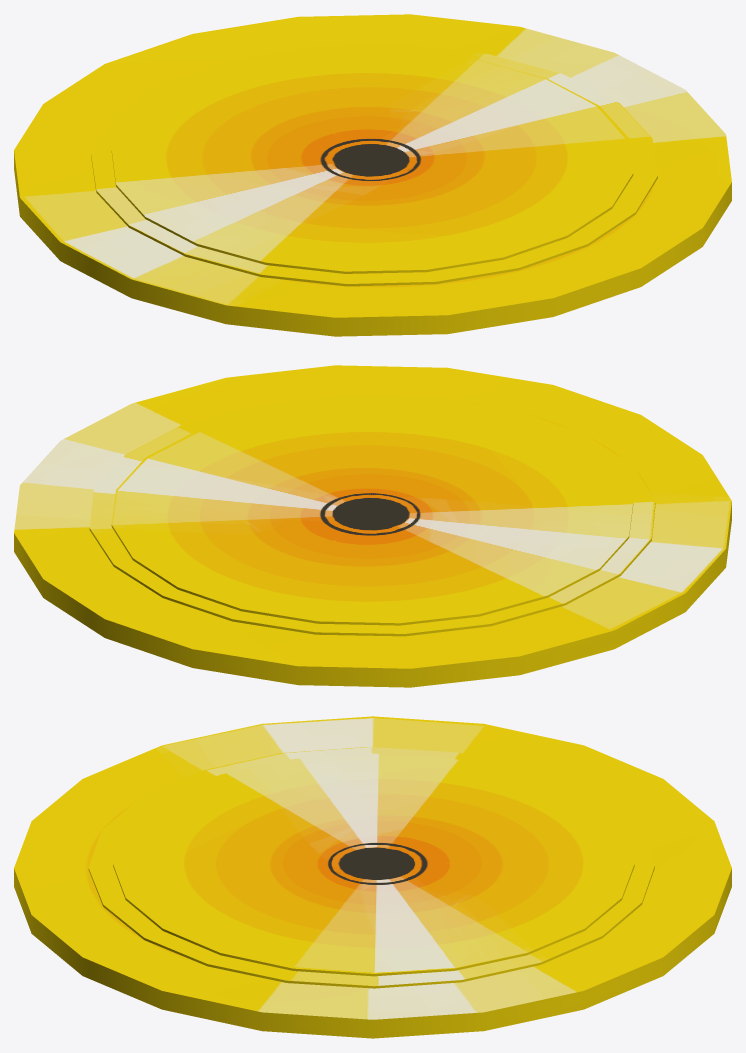
The model's file is DJ Disk.fbx.
3 renders of one model, top to bottom at view 1: azimuth 30°, elevation 25°; view 2: azimuth 150°, elevation 25°; view 3: azimuth 270°, elevation 25°, orthographic.
Visible parts, largest first — view 1: pCylinder10, pCylinder9, pCylinder11; view 2: pCylinder10, pCylinder9, pCylinder11; view 3: pCylinder10, pCylinder9, pCylinder11.
Boxes of the visible parts, x1,y1,x2,y2 form: pCylinder10: (111,51,633,273); pCylinder9: (14,14,731,336); pCylinder11: (91,44,657,286); pCylinder10: (111,402,633,625); pCylinder9: (14,365,731,687); pCylinder11: (89,395,655,636); pCylinder10: (113,753,634,976); pCylinder9: (14,716,731,1038); pCylinder11: (88,747,654,988).
Bounding box in the file's own units: 4.8 × 0.1703 × 4.8.
